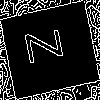Z: (25, 24, 72, 65)
